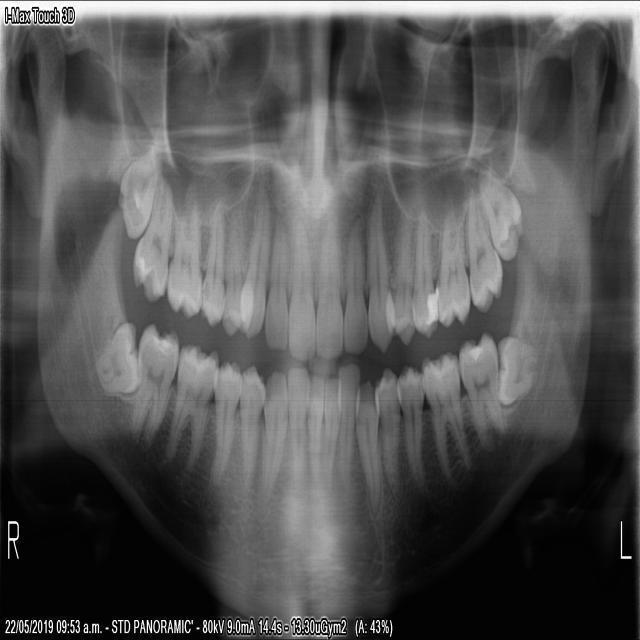LCD: (352, 374, 381, 517)
LCU: (363, 194, 395, 354)
LID: (334, 358, 359, 495), (319, 373, 340, 489)
LIU: (313, 215, 341, 362), (340, 215, 366, 356)
LMD: (417, 342, 468, 481), (453, 323, 505, 449), (494, 332, 536, 405)
LMU: (430, 196, 469, 331), (463, 186, 502, 314), (477, 174, 522, 261)
LPMD: (392, 358, 425, 499), (371, 359, 400, 503)
LPMU: (382, 202, 415, 349), (408, 200, 439, 342)
RCD: (258, 367, 287, 501)
RCU: (235, 183, 270, 339)
RID: (284, 363, 308, 501), (303, 369, 322, 492)
RIU: (284, 210, 314, 362), (261, 206, 287, 351)
RMD: (159, 338, 218, 475), (125, 317, 179, 443), (92, 319, 140, 403)
RMU: (128, 172, 171, 302), (163, 177, 202, 320), (112, 139, 158, 238)
RPMD: (207, 355, 242, 488), (234, 360, 265, 500)
RPMU: (218, 206, 253, 338), (195, 196, 224, 329)
